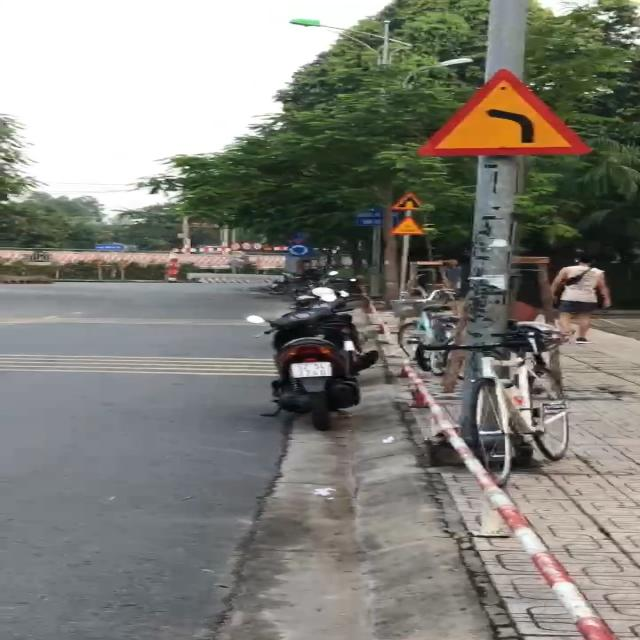Bien bao cho ngoat nguy hiem: (408, 63, 596, 162)
